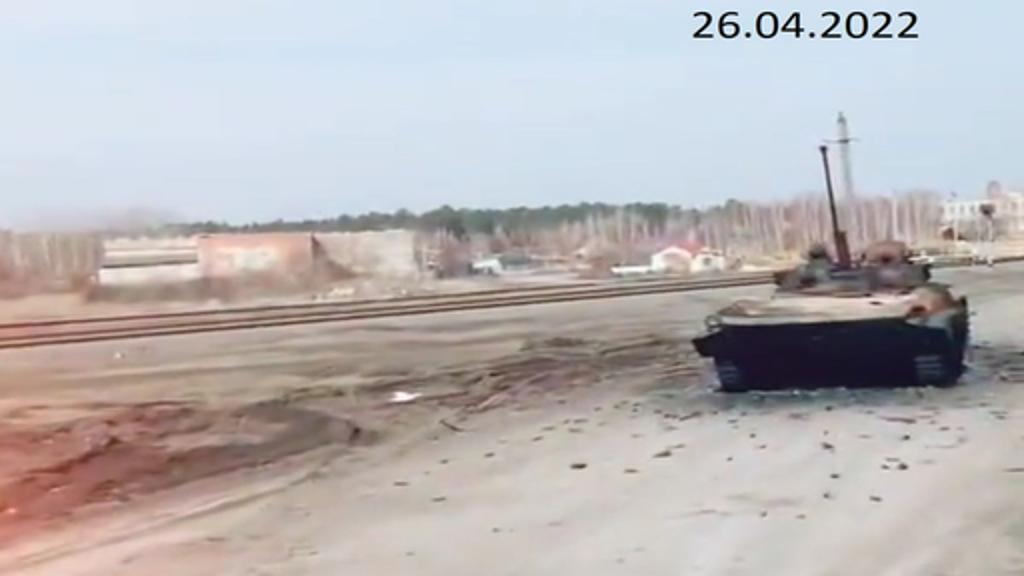APC-IFV: (690, 142, 974, 396)
